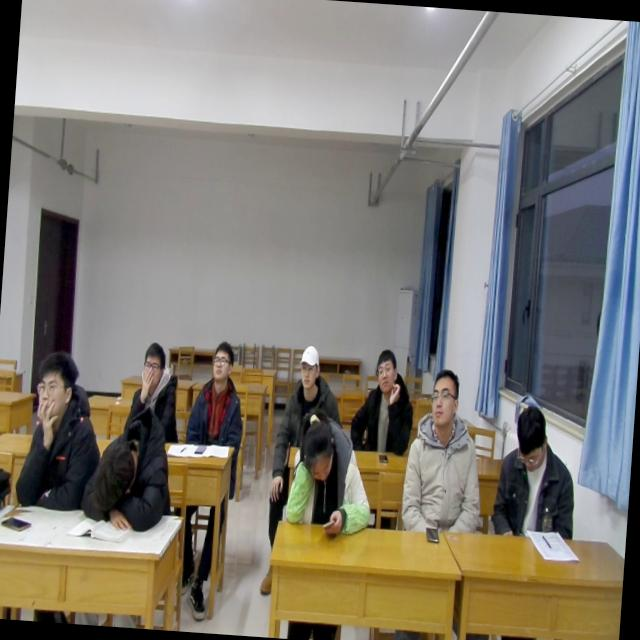bow: (76, 394, 182, 534), (281, 405, 378, 545)
down: (296, 408, 340, 487), (510, 398, 550, 473)
lookup: (29, 343, 82, 427), (424, 362, 462, 432), (134, 336, 168, 397), (291, 340, 324, 394), (371, 344, 399, 398), (208, 333, 235, 388)
sit: (11, 342, 108, 519), (398, 359, 493, 537), (489, 398, 585, 544), (346, 342, 420, 458), (180, 334, 250, 449), (274, 340, 342, 450), (120, 340, 186, 442)
